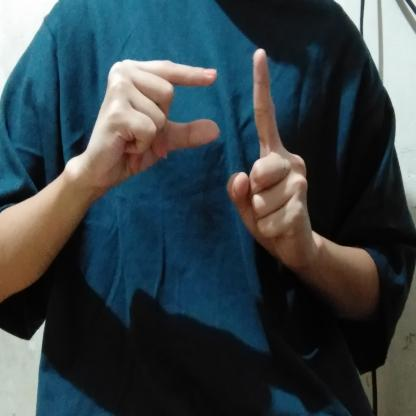daughter: (70, 41, 322, 285)
